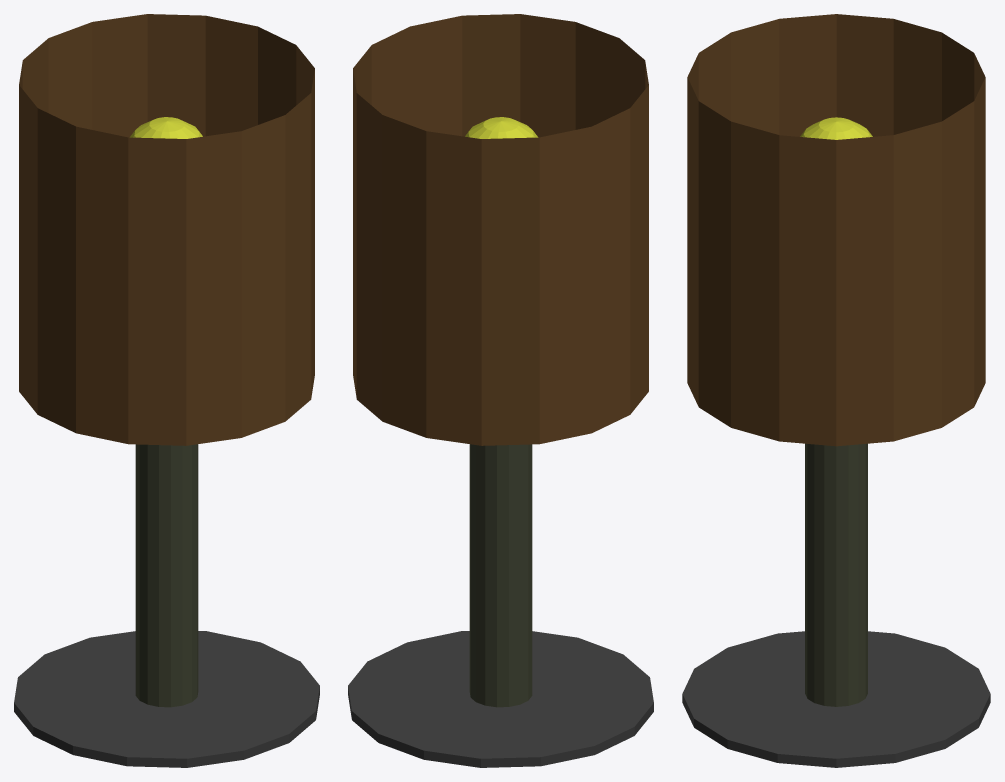
Rendered from Small Lamp.fbx.
The picture shows the model from 3 angles, left to right: view 1: azimuth 30°, elevation 25°; view 2: azimuth 150°, elevation 25°; view 3: azimuth 270°, elevation 25°; orthographic projection.
Parts seen in each view (by area): view 1: Cylinder_2, Cylinder_1, Cylinder, Sphere; view 2: Cylinder_2, Cylinder_1, Cylinder, Sphere; view 3: Cylinder_2, Cylinder_1, Cylinder, Sphere.
Boxes of the visible parts, box(x1,y1,x2,y2) form: Cylinder_2: box(19, 14, 314, 445); Cylinder_1: box(14, 631, 319, 767); Cylinder: box(135, 444, 198, 707); Sphere: box(129, 117, 202, 138); Cylinder_2: box(353, 14, 648, 445); Cylinder_1: box(348, 631, 653, 767); Cylinder: box(469, 444, 532, 707); Sphere: box(465, 117, 538, 138); Cylinder_2: box(687, 14, 985, 446); Cylinder_1: box(682, 631, 990, 767); Cylinder: box(805, 443, 867, 706); Sphere: box(800, 117, 872, 139).
Size of the model in its own units: 103 by 232 by 103.
